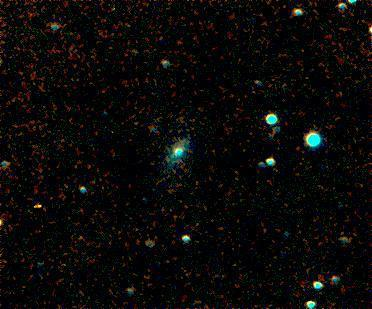star: (23, 192, 53, 222)
